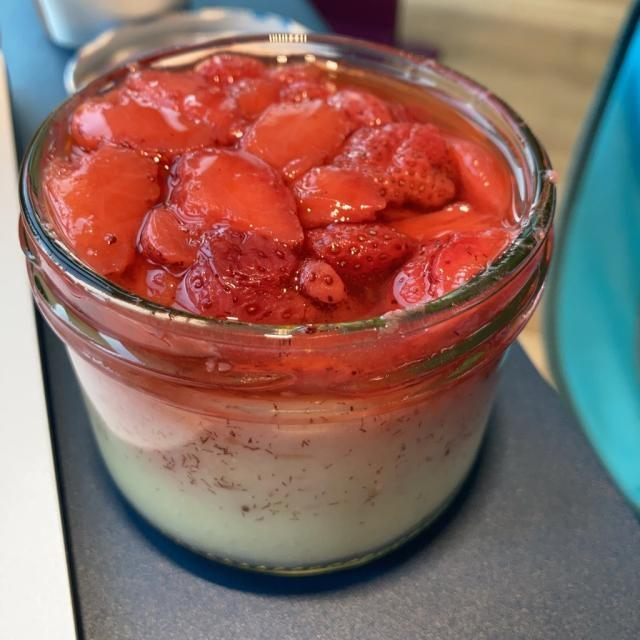compotes: (36, 78, 513, 436)
